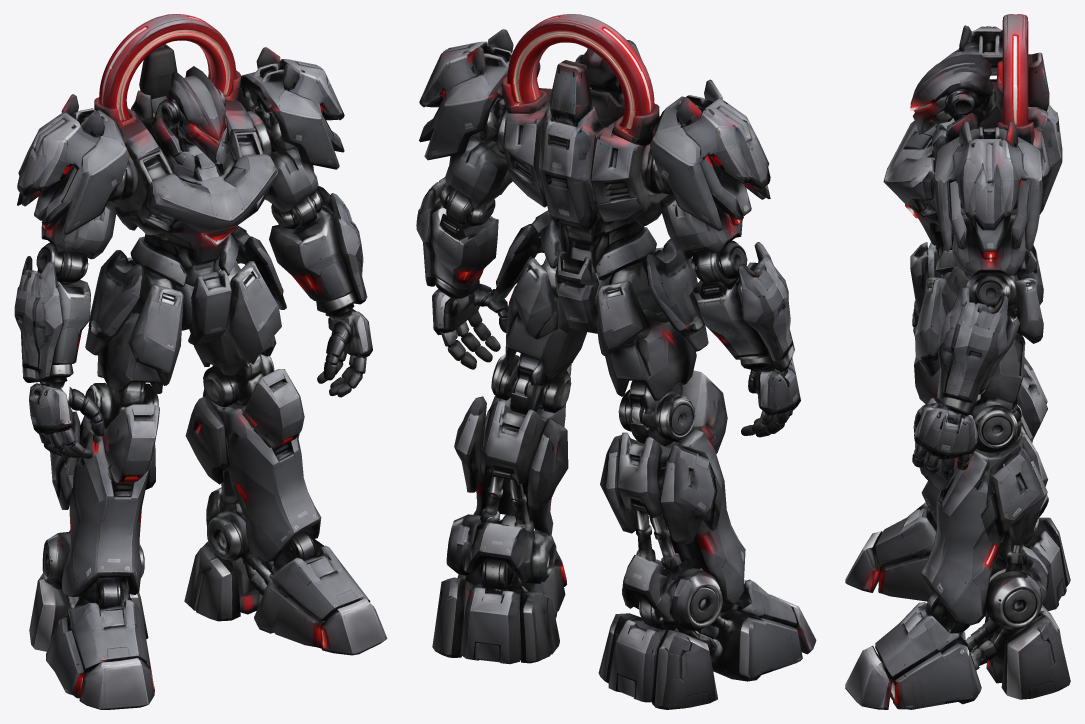
Rendered from mecha w tex.glb.
3 views of the same model, side by side, from view 1: azimuth 30°, elevation 25°; view 2: azimuth 150°, elevation 25°; view 3: azimuth 270°, elevation 25° (orthographic). The views are drawn at different scales.
Parts seen in each view (by area): view 1: tripo_part_9, tripo_part_32, tripo_part_20, tripo_part_12, tripo_part_33, tripo_part_0, tripo_part_95, tripo_part_29, tripo_part_110, tripo_part_111, tripo_part_126, tripo_part_127 (+42 smaller); view 2: tripo_part_12, tripo_part_9, tripo_part_32, tripo_part_0, tripo_part_80, tripo_part_33, tripo_part_20, tripo_part_16, tripo_part_138, tripo_part_116, tripo_part_29, tripo_part_151 (+55 smaller); view 3: tripo_part_20, tripo_part_33, tripo_part_30, tripo_part_139, tripo_part_9, tripo_part_152, tripo_part_118, tripo_part_111, tripo_part_0, tripo_part_60, tripo_part_103, tripo_part_110 (+39 smaller).
Part boxes in pixels (x1=…): tripo_part_9: x1=111, y1=100, x2=277, y2=246; tripo_part_32: x1=61, y1=415, x2=153, y2=596; tripo_part_20: x1=203, y1=389, x2=321, y2=562; tripo_part_12: x1=17, y1=110, x2=129, y2=235; tripo_part_33: x1=237, y1=59, x2=344, y2=169; tripo_part_0: x1=99, y1=14, x2=236, y2=121; tripo_part_95: x1=269, y1=205, x2=353, y2=301; tripo_part_29: x1=14, y1=256, x2=63, y2=382; tripo_part_110: x1=68, y1=582, x2=147, y2=673; tripo_part_111: x1=269, y1=536, x2=370, y2=621; tripo_part_126: x1=128, y1=284, x2=183, y2=385; tripo_part_127: x1=228, y1=260, x2=281, y2=364; tripo_part_12: x1=649, y1=96, x2=770, y2=231; tripo_part_9: x1=502, y1=88, x2=668, y2=226; tripo_part_32: x1=617, y1=429, x2=745, y2=605; tripo_part_0: x1=507, y1=14, x2=654, y2=129; tripo_part_80: x1=538, y1=89, x2=623, y2=230; tripo_part_33: x1=419, y1=41, x2=540, y2=160; tripo_part_20: x1=473, y1=395, x2=565, y2=535; tripo_part_16: x1=605, y1=307, x2=696, y2=401; tripo_part_138: x1=658, y1=443, x2=722, y2=544; tripo_part_116: x1=696, y1=609, x2=802, y2=681; tripo_part_29: x1=737, y1=242, x2=794, y2=371; tripo_part_151: x1=651, y1=629, x2=717, y2=709; tripo_part_20: x1=921, y1=425, x2=1047, y2=625; tripo_part_33: x1=934, y1=128, x2=1043, y2=251; tripo_part_30: x1=937, y1=287, x2=1008, y2=415; tripo_part_139: x1=980, y1=446, x2=1047, y2=545; tripo_part_9: x1=883, y1=83, x2=1050, y2=229; tripo_part_152: x1=1001, y1=615, x2=1070, y2=699; tripo_part_118: x1=879, y1=636, x2=981, y2=709; tripo_part_111: x1=875, y1=602, x2=959, y2=680; tripo_part_0: x1=1002, y1=14, x2=1028, y2=126; tripo_part_60: x1=910, y1=54, x2=992, y2=110; tripo_part_103: x1=914, y1=406, x2=977, y2=459; tripo_part_110: x1=875, y1=502, x2=935, y2=565.
Size of the model in its own units: 0.585 by 0.9995 by 0.3315.
Materials: 242 (242 with a texture image).
